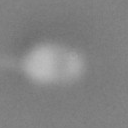normal: (1, 50, 26, 78)
